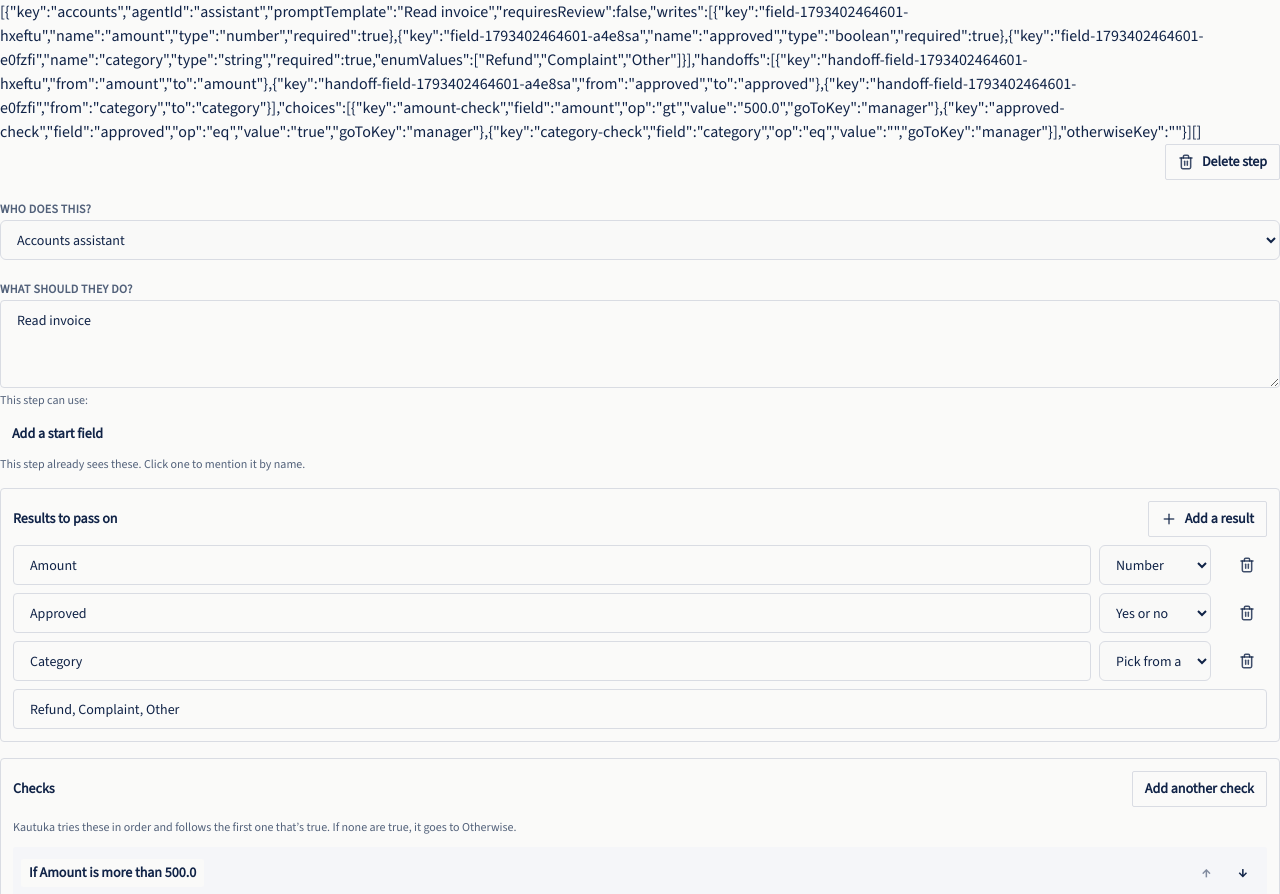
Test: WorkflowStepSettings result-aware checks › adds a start field from the first step panel and stays on that step
Step 1. Click the button "Add a start field" → (58, 434), box [0, 416, 115, 452]
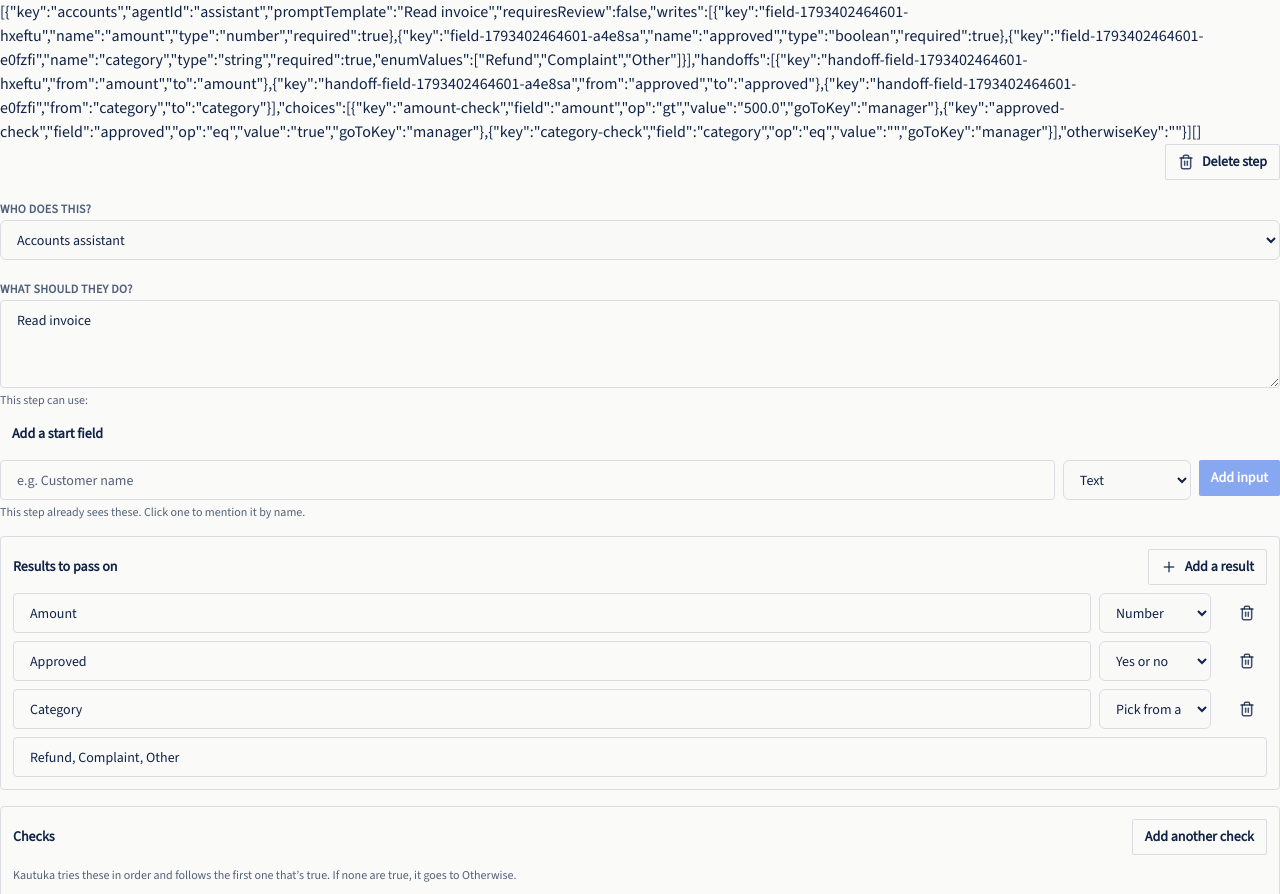
Step 2. Type "Customer name" into the field named "New start field name" → (527, 480), box [0, 460, 1055, 500]
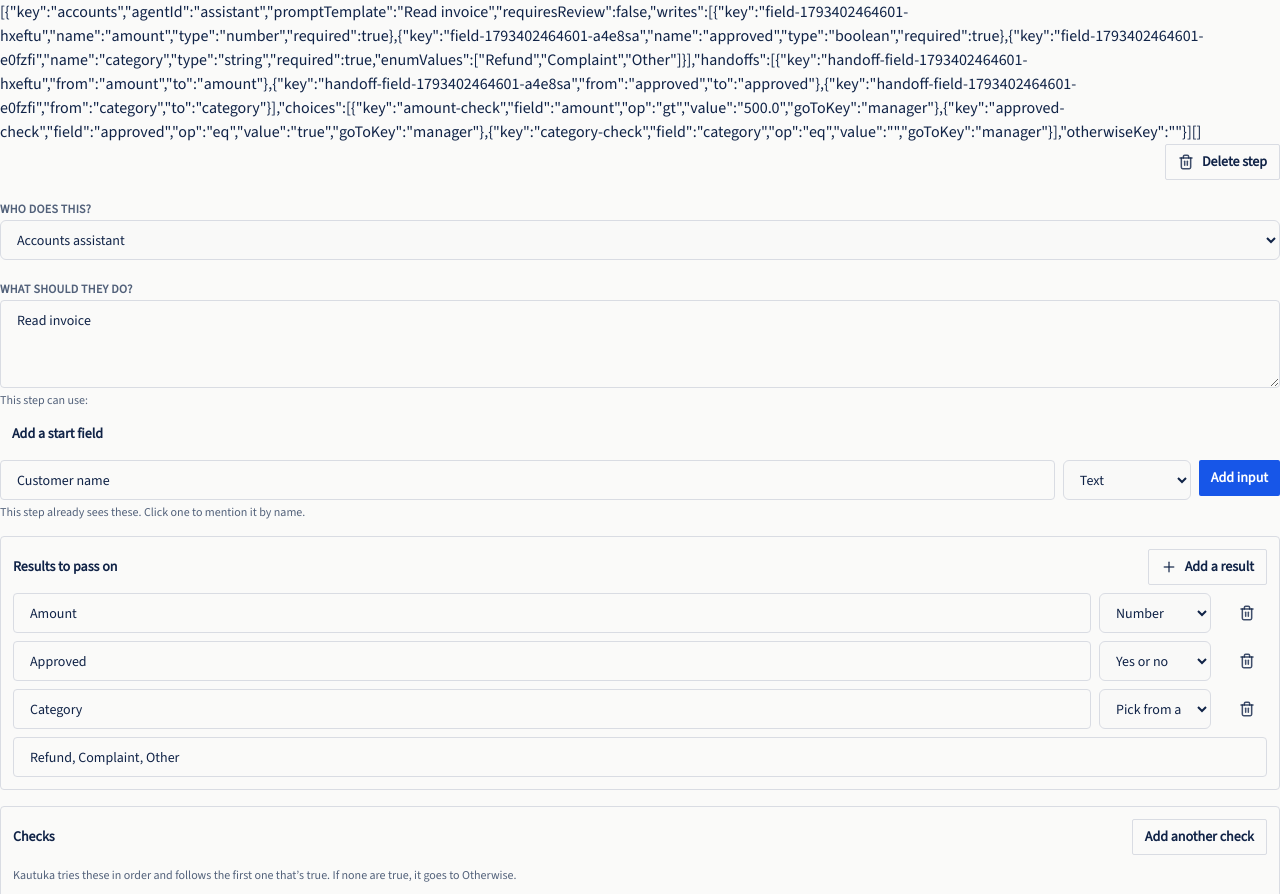
Step 3. Select "Number" in the dropdown named "New start field type" → (1127, 480), box [1063, 460, 1191, 500]
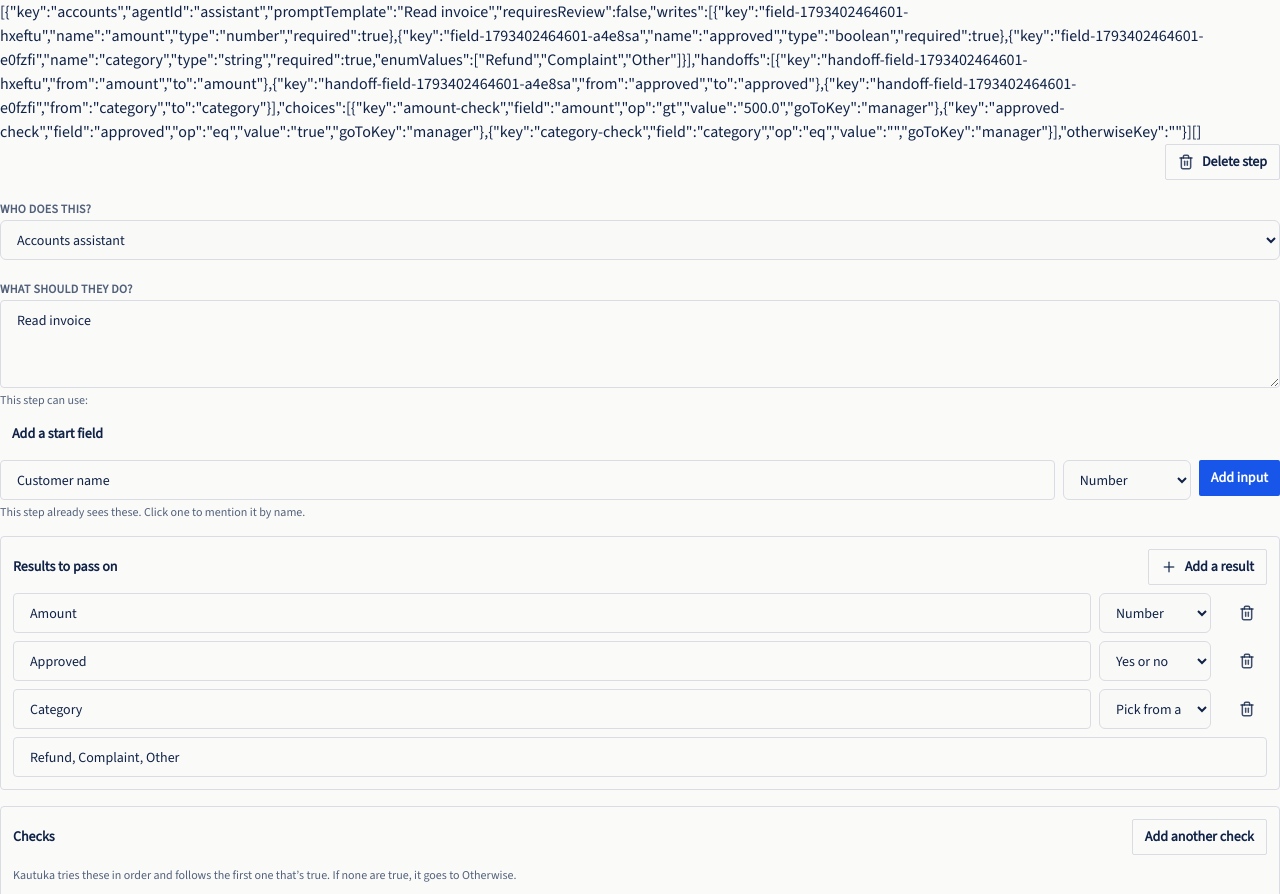
Step 4. Click the button "Add input" → (1239, 478), box [1199, 460, 1279, 496]
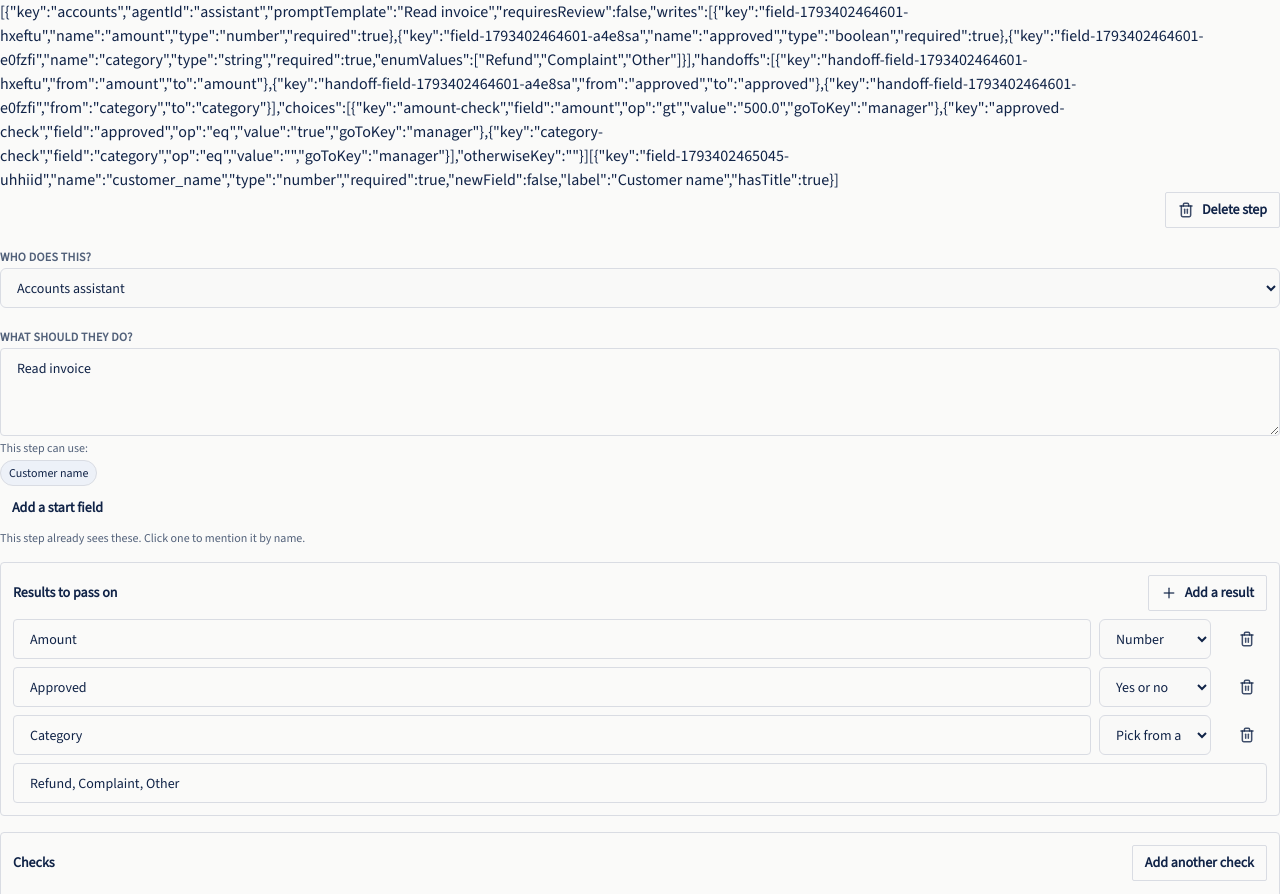
Check: the text box labelled "What should they do?" is shown, box [0, 348, 1279, 436]
Check: the button "Customer name" is shown, box [0, 460, 97, 486]
